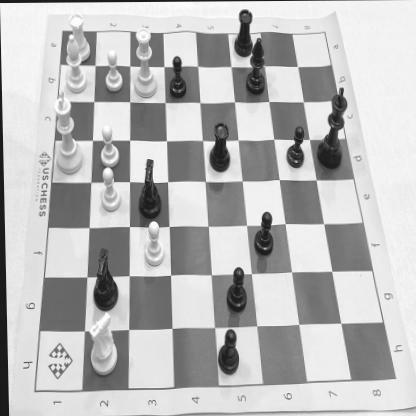black-bishop: (244, 33, 268, 100)
black-king: (312, 82, 352, 172)
black-knight: (88, 243, 122, 316), (134, 156, 164, 223)
black-pawn: (214, 324, 240, 376), (250, 207, 275, 259), (224, 264, 248, 314), (168, 53, 191, 102), (285, 122, 306, 172)
black-rook: (205, 118, 233, 176), (231, 2, 256, 61)
white-bishop: (62, 30, 88, 94)
white-king: (48, 87, 88, 176)
white-knight: (82, 309, 121, 378)
white-pawn: (96, 165, 122, 215), (140, 220, 166, 268), (101, 46, 124, 95), (97, 121, 120, 170)
white-queen: (129, 21, 162, 102)
white-rook: (66, 10, 94, 64)
